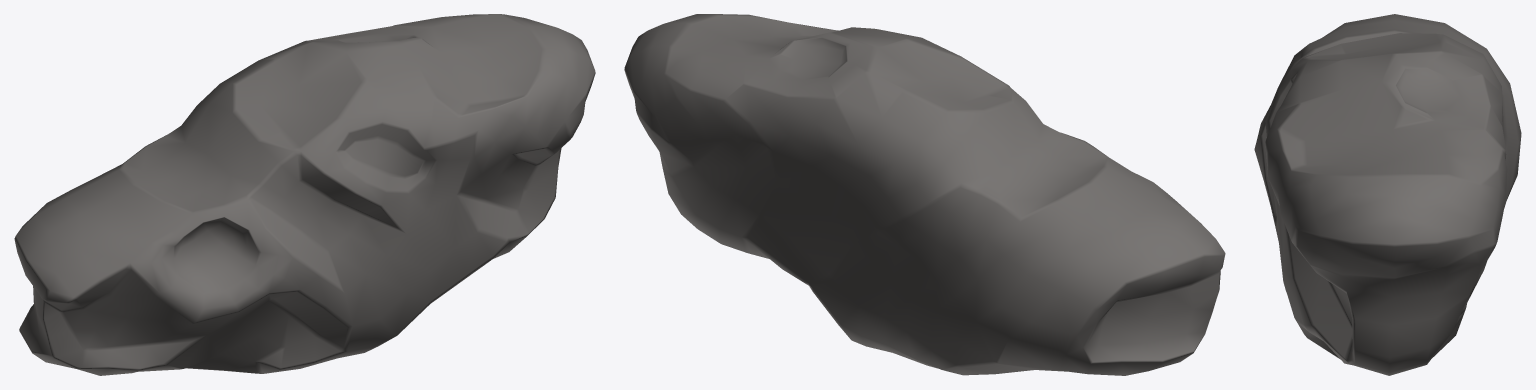
The model's file is _Meteorite_02.fbx.
3 views of the same model, side by side, from view 1: azimuth 30°, elevation 25°; view 2: azimuth 150°, elevation 25°; view 3: azimuth 270°, elevation 25° (orthographic). The views are drawn at different scales.
Visible parts, largest first — view 1: Meteorite_02; view 2: Meteorite_02; view 3: Meteorite_02.
Boxes of the visible parts, x1,y1,x2,y2 form: Meteorite_02: [14, 14, 595, 375]; Meteorite_02: [624, 14, 1225, 375]; Meteorite_02: [1254, 14, 1521, 375].
Size of the model in its own units: 365 by 181 by 138.
Materials: 1 (1 with a texture image).
